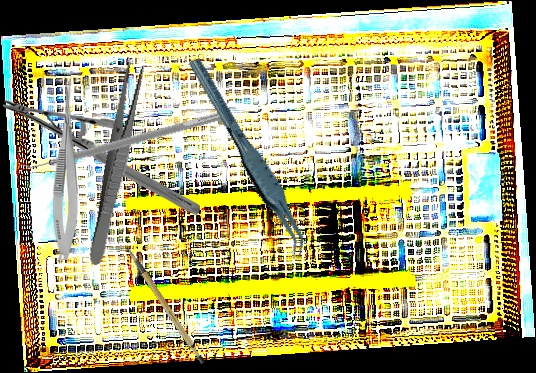Dressing Forceps: (86, 59, 147, 268)
Micro Scissor: (52, 74, 78, 260)
Needle Holder: (3, 97, 200, 216)
Scalpel Handle: (126, 237, 207, 372)
Spatula Surgical: (18, 100, 231, 178)
Tissue Forceps: (186, 47, 312, 268)
